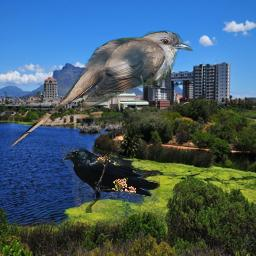Crow: (59, 146, 160, 213)
Cuckoo: (10, 30, 193, 148)
